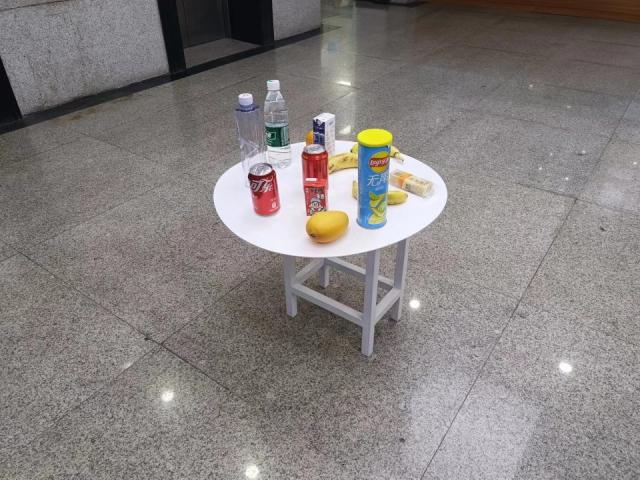Canned_drinks: (246, 162, 283, 216), (300, 144, 331, 193)
bottle: (234, 93, 267, 173), (264, 78, 293, 168)
cylinder: (354, 128, 392, 230)
drink_box: (313, 112, 337, 157), (304, 177, 329, 216)
